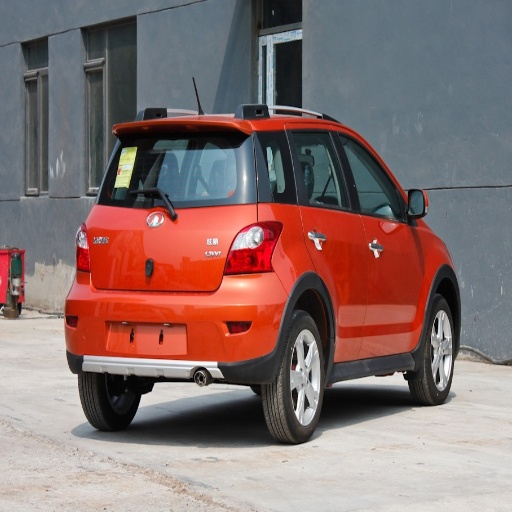back_bumper: (66, 271, 292, 382)
back_right_door: (286, 125, 372, 356)
trunk: (87, 207, 250, 320)
